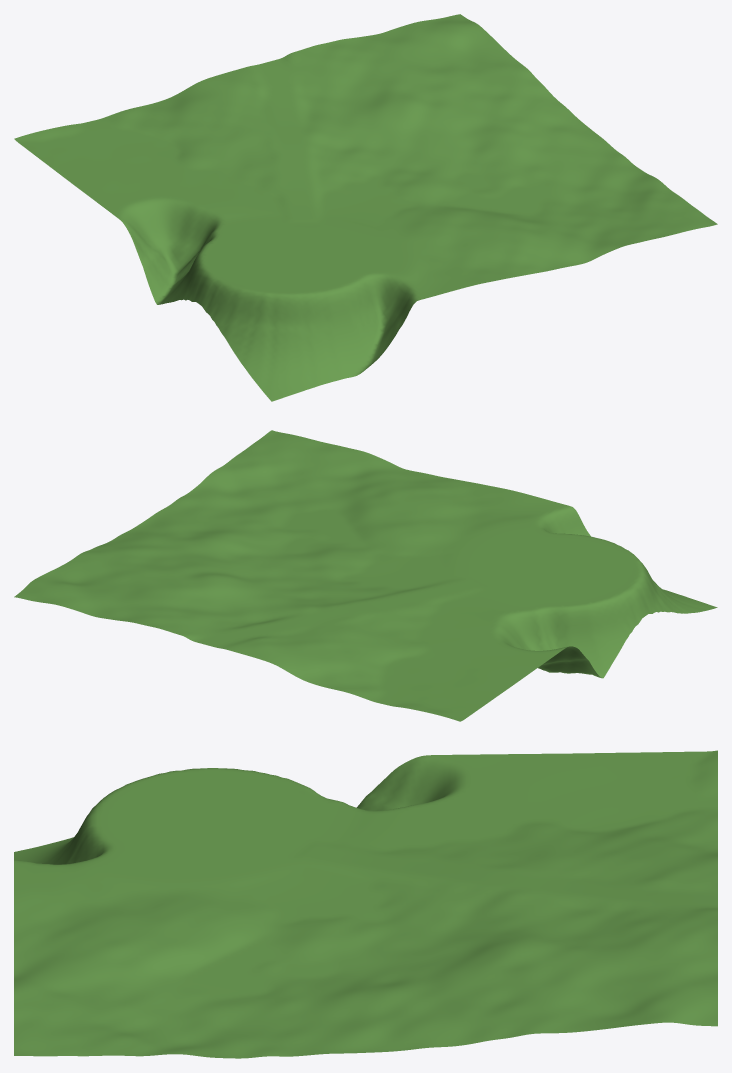
Rendered from SM_Terrain_02_05.fbx.
The picture shows the model from 3 angles, top to bottom: view 1: azimuth 30°, elevation 25°; view 2: azimuth 150°, elevation 25°; view 3: azimuth 270°, elevation 25°; orthographic projection. The views are drawn at different scales.
Parts seen in each view (by area): view 1: SM_Terrain_02_05; view 2: SM_Terrain_02_05; view 3: SM_Terrain_02_05.
Boxes of the visible parts, x1,y1,x2,y2 form: SM_Terrain_02_05: [14, 14, 717, 401]; SM_Terrain_02_05: [14, 430, 717, 721]; SM_Terrain_02_05: [14, 750, 717, 1058].
Size of the model in its own units: 384 by 77.44 by 384.
